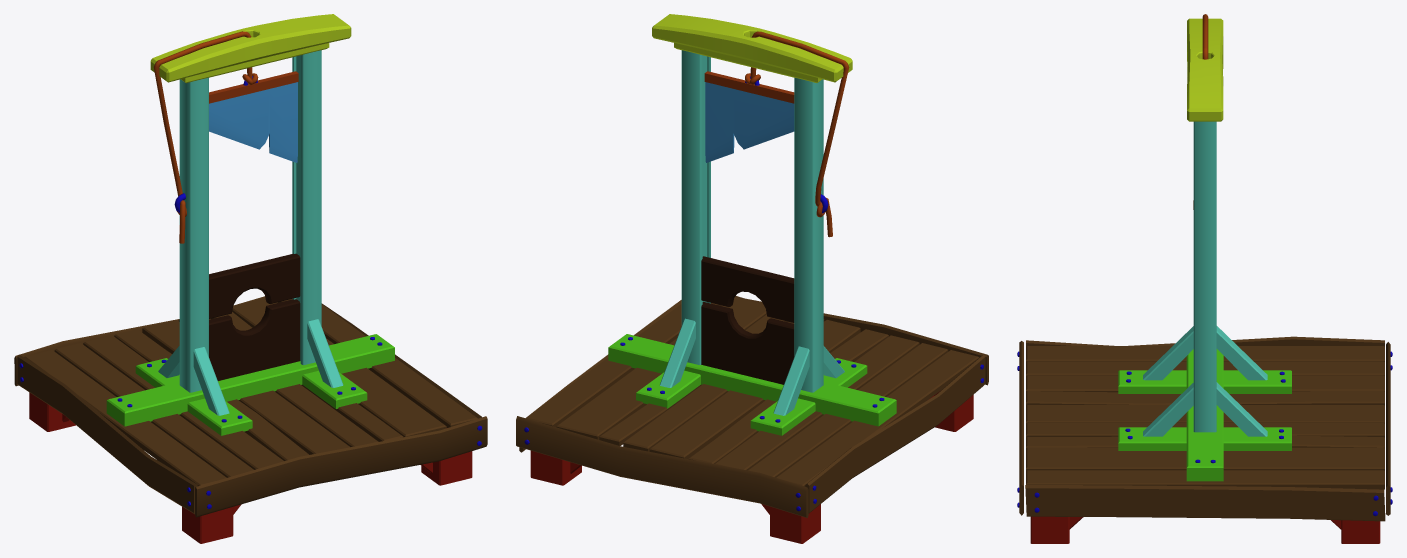
Rendered from giljotiini.fbx.
3 renders of one model, left to right at view 1: azimuth 30°, elevation 25°; view 2: azimuth 150°, elevation 25°; view 3: azimuth 270°, elevation 25°, orthographic.
Parts seen in each view (by area): view 1: Guillotine_Asset250cm; view 2: Guillotine_Asset250cm; view 3: Guillotine_Asset250cm.
Part boxes in pixels (x1,y1,x2,y2): Guillotine_Asset250cm: [14, 14, 487, 543]; Guillotine_Asset250cm: [516, 14, 988, 543]; Guillotine_Asset250cm: [1017, 14, 1392, 543].
Size of the model in its own units: 247 by 337 by 269.
